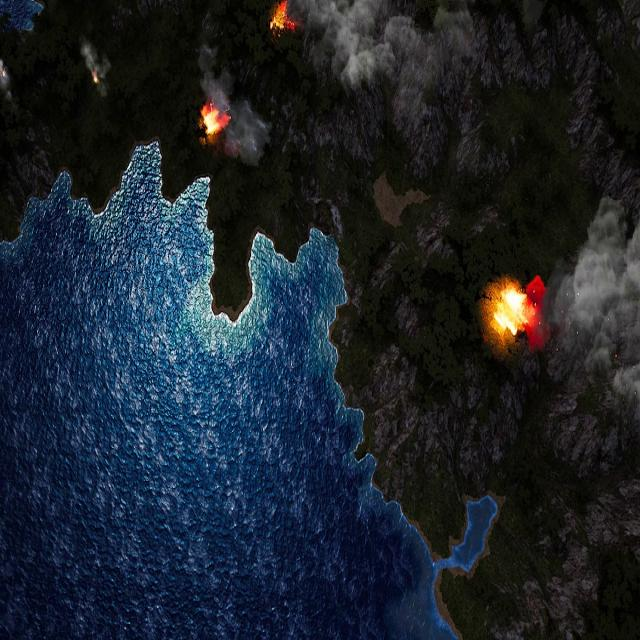fire: (488, 283, 530, 340), (200, 104, 230, 138), (271, 2, 297, 38), (92, 72, 100, 84)
smoke: (522, 196, 638, 439), (291, 0, 412, 88), (202, 28, 272, 170), (80, 34, 111, 92), (0, 59, 12, 106)
